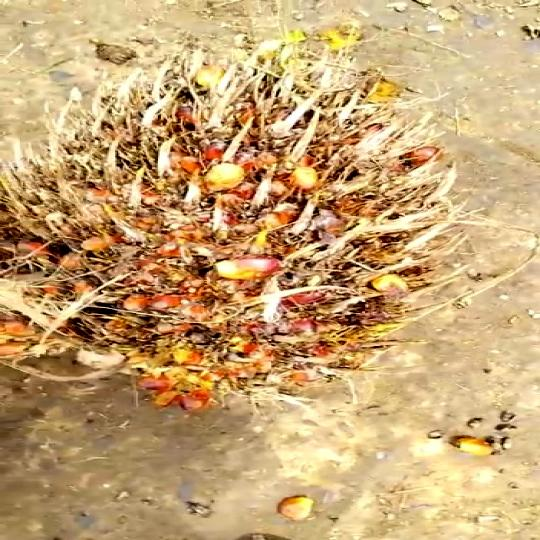terlalu masak: (0, 36, 499, 418)
